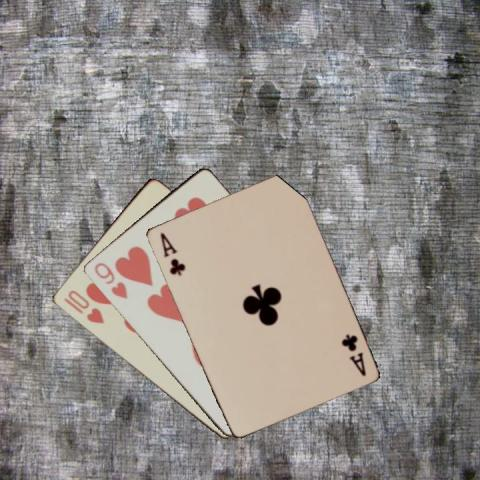10h: (60, 287, 105, 325)
9h: (90, 258, 128, 300)
Ac: (156, 229, 186, 277), (338, 331, 367, 377)
